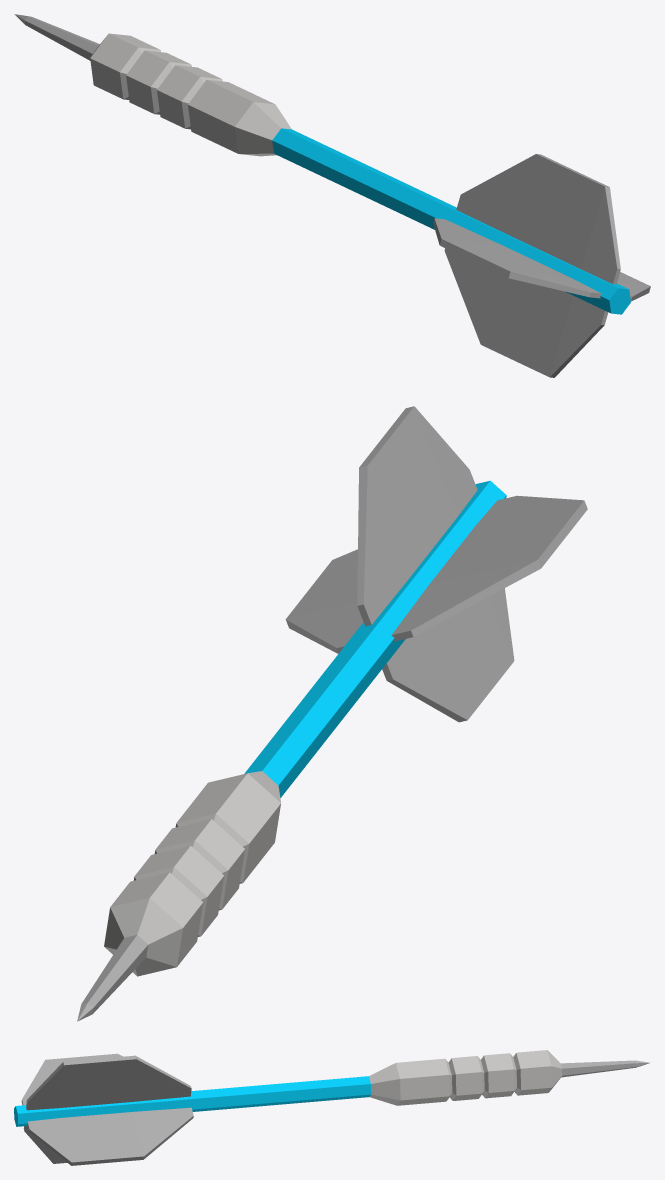
The model's file is phitieu_edited.fbx.
3 views of the same model, one above another, from view 1: azimuth 30°, elevation 25°; view 2: azimuth 150°, elevation 25°; view 3: azimuth 270°, elevation 25° (orthographic). The views are drawn at different scales.
Visible parts, largest first — view 1: SM_Prop_Darkboard_01_1; view 2: SM_Prop_Darkboard_01_1; view 3: SM_Prop_Darkboard_01_1.
Part boxes in pixels (left/top/right/bottom): SM_Prop_Darkboard_01_1: left=14, top=14, right=650, bottom=377; SM_Prop_Darkboard_01_1: left=77, top=406, right=587, bottom=1021; SM_Prop_Darkboard_01_1: left=14, top=1050, right=650, bottom=1165.
Bounding box in the file's own units: 9.69 × 6.97 × 32.92.
